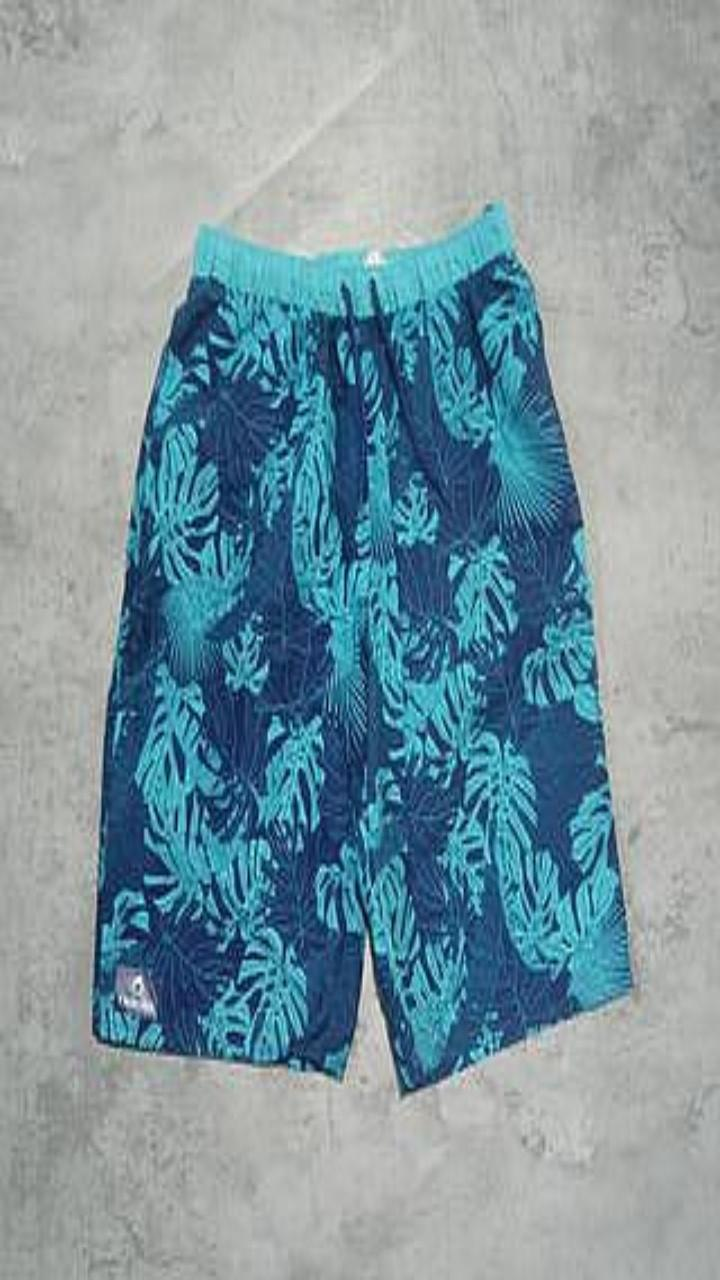Shorts: (92, 204, 632, 1092)
